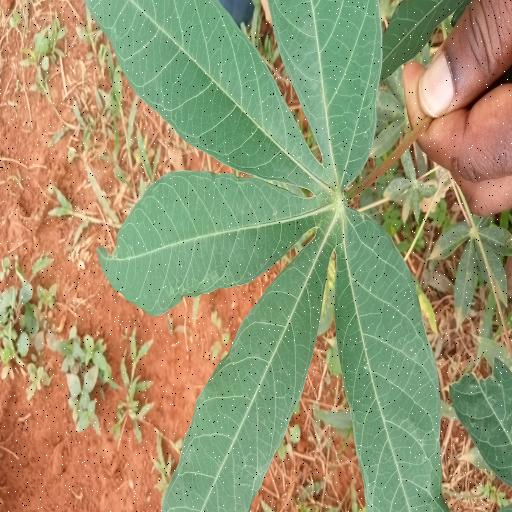Cassava_Healthy: (84, 0, 448, 512)
